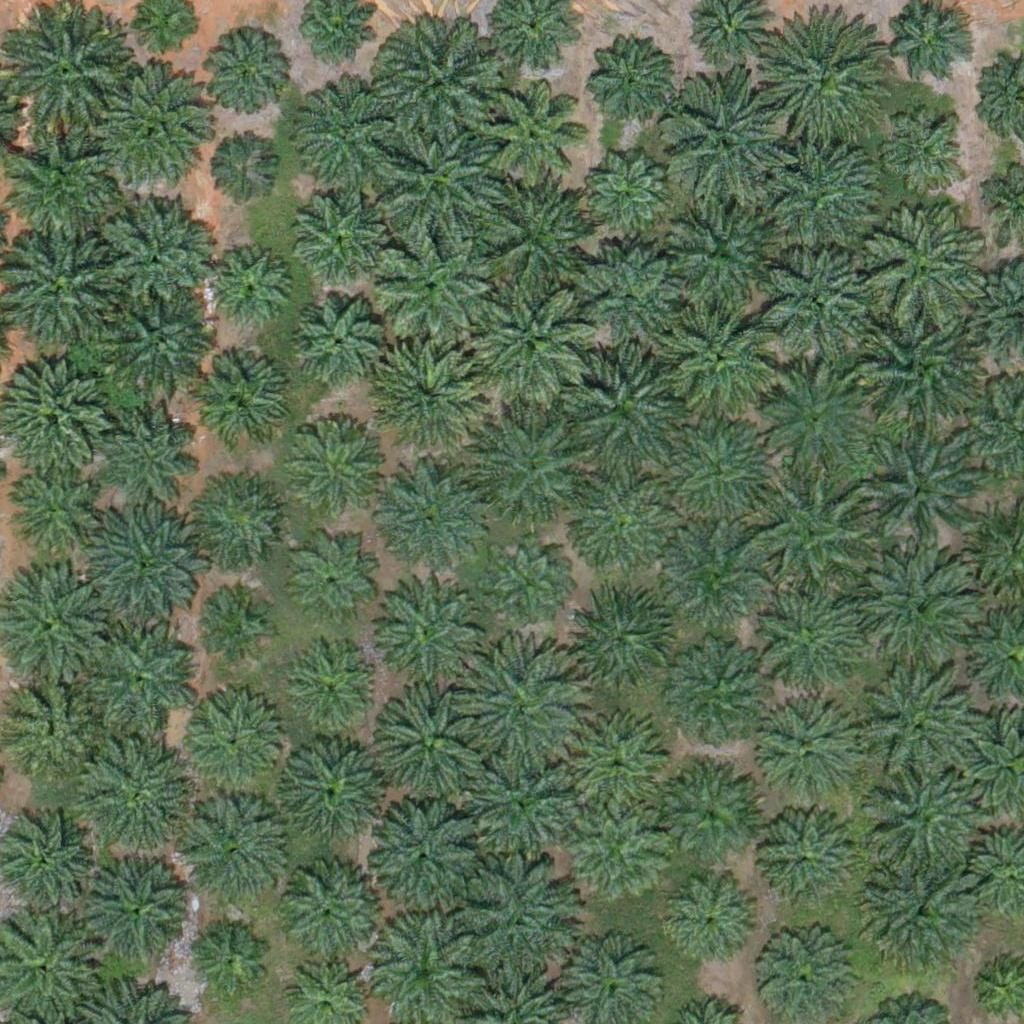Kelapa_Sawit: (854, 204, 979, 330), (850, 312, 975, 438), (858, 547, 983, 673), (760, 21, 885, 147), (747, 479, 872, 605), (667, 79, 792, 205), (453, 641, 578, 767), (475, 280, 600, 406), (374, 20, 499, 146), (4, 15, 129, 141), (456, 848, 581, 974), (854, 836, 979, 962), (378, 114, 503, 239), (861, 674, 974, 788), (368, 342, 481, 456), (372, 687, 485, 801), (275, 735, 388, 849), (104, 70, 217, 184), (764, 143, 877, 256), (663, 420, 776, 533), (666, 304, 779, 417), (564, 351, 677, 464), (478, 413, 591, 526), (379, 227, 492, 340), (372, 576, 485, 689), (293, 75, 406, 188), (180, 690, 293, 803), (82, 739, 195, 852), (86, 505, 199, 618), (7, 133, 120, 246), (553, 794, 666, 907), (3, 572, 115, 686), (368, 803, 480, 917), (177, 796, 289, 910), (863, 441, 975, 554), (767, 364, 879, 477), (660, 198, 772, 311), (563, 467, 675, 580), (466, 750, 578, 863), (480, 180, 592, 293), (370, 465, 482, 578), (85, 623, 197, 736), (104, 285, 216, 398), (99, 198, 211, 311), (77, 854, 189, 967), (282, 858, 394, 971), (765, 252, 865, 353), (666, 530, 766, 631), (580, 246, 680, 347), (565, 710, 665, 811), (487, 89, 587, 190), (102, 392, 202, 493), (869, 765, 969, 866), (754, 596, 854, 696), (762, 697, 862, 797), (665, 765, 765, 865), (666, 637, 766, 737), (191, 354, 291, 454), (6, 675, 106, 775), (663, 869, 763, 969), (755, 809, 855, 909), (201, 32, 289, 121), (579, 594, 667, 682), (288, 644, 376, 732), (292, 190, 380, 278), (202, 244, 290, 332), (1, 468, 89, 556), (295, 420, 382, 508), (294, 294, 381, 382), (196, 475, 283, 563), (2, 817, 89, 905), (203, 137, 278, 213), (885, 8, 960, 84), (884, 116, 959, 192), (593, 43, 668, 119), (591, 160, 666, 236), (298, 546, 373, 622), (197, 927, 272, 1003), (492, 536, 567, 611), (205, 594, 268, 657)
